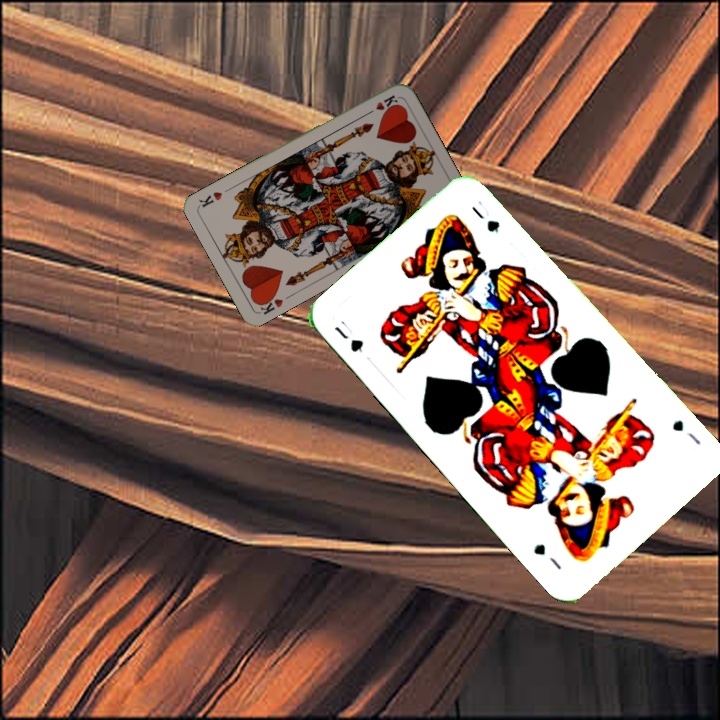GU: (330, 316, 366, 355), (668, 415, 704, 448)
HK: (362, 91, 400, 118), (253, 290, 286, 317)
